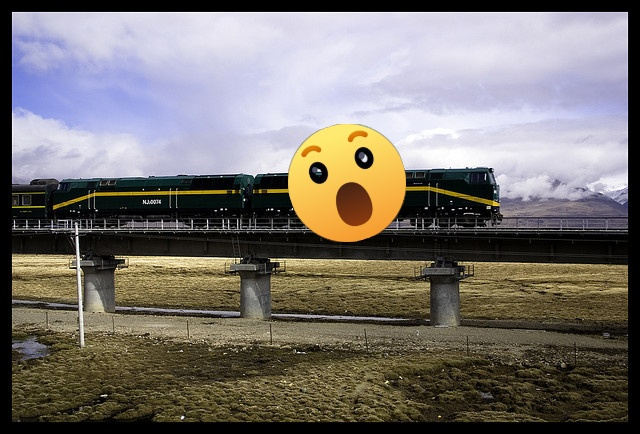wow: (288, 124, 406, 242)
